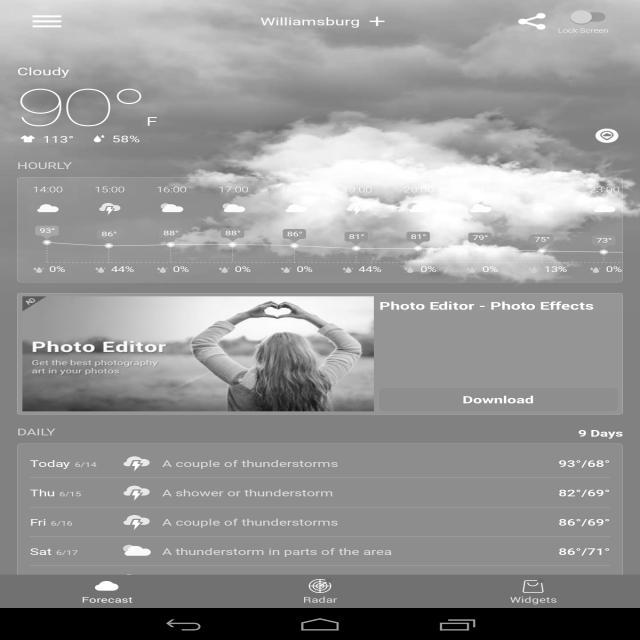ImageView: (22, 296, 374, 412), (489, 0, 558, 43), (13, 0, 81, 43), (120, 511, 154, 533), (120, 453, 154, 474), (120, 482, 154, 503), (120, 541, 154, 562), (120, 570, 154, 591), (591, 126, 623, 146), (34, 200, 62, 217), (96, 200, 124, 217), (405, 200, 433, 217), (467, 200, 495, 217), (529, 200, 557, 217), (591, 200, 619, 217), (158, 200, 185, 217), (220, 200, 247, 217), (282, 200, 309, 217), (344, 200, 371, 217), (364, 13, 390, 30), (22, 296, 46, 312)
RadioButton: (213, 578, 427, 605), (426, 578, 640, 604), (0, 578, 213, 604)
Switch: (567, 8, 617, 26)
TextView: (17, 76, 146, 137), (379, 388, 618, 411), (162, 457, 552, 470), (162, 486, 552, 499), (162, 545, 552, 558), (162, 574, 552, 587), (162, 516, 552, 528), (379, 298, 594, 313), (559, 415, 623, 451), (260, 14, 360, 28), (17, 132, 74, 146), (17, 64, 69, 78), (17, 159, 72, 172), (559, 457, 610, 470), (559, 486, 610, 499), (559, 545, 610, 558), (559, 574, 610, 587), (91, 132, 140, 145), (559, 516, 610, 528), (30, 457, 70, 470), (17, 425, 56, 438), (558, 26, 608, 34), (32, 183, 63, 194), (94, 183, 125, 194), (156, 183, 187, 194), (218, 183, 249, 194), (527, 183, 558, 194), (589, 183, 620, 194), (280, 183, 310, 194), (342, 183, 372, 194), (404, 183, 434, 194), (466, 183, 496, 194), (30, 486, 55, 499), (30, 574, 55, 587), (30, 545, 52, 558), (51, 518, 72, 528), (59, 489, 81, 498), (56, 548, 78, 557), (30, 516, 46, 528), (75, 460, 96, 469), (146, 113, 157, 129)
